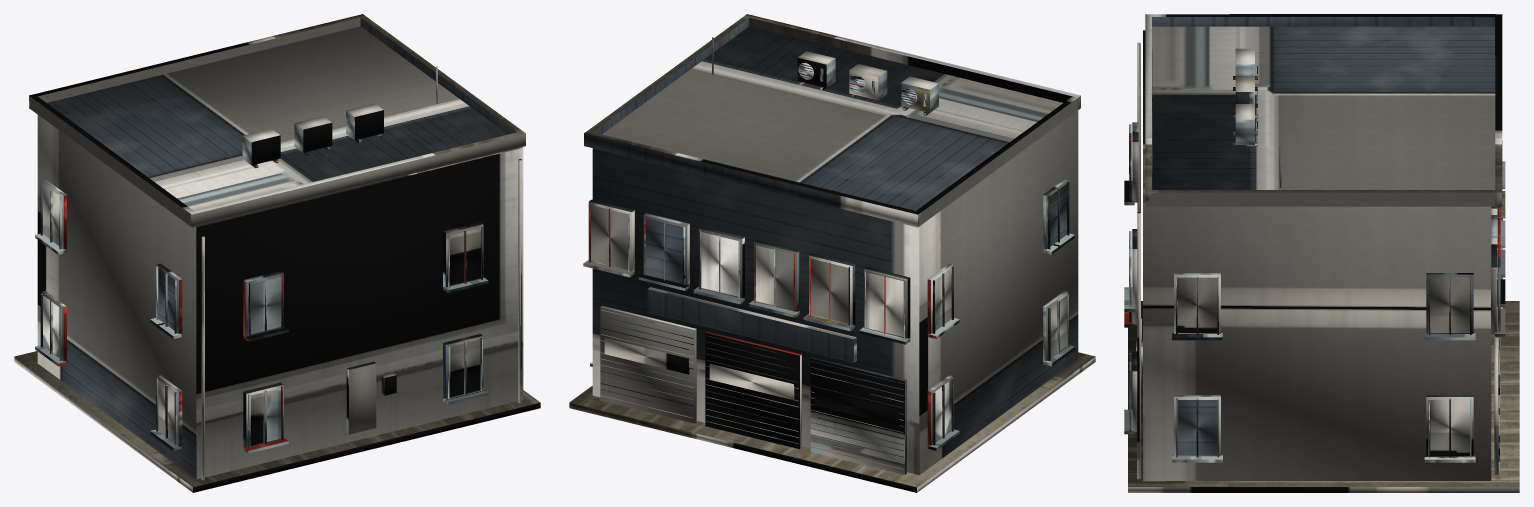
The model's file is public_007.lod1.obj.
3 views of the same model, side by side, from view 1: azimuth 30°, elevation 25°; view 2: azimuth 150°, elevation 25°; view 3: azimuth 270°, elevation 25° (orthographic). The views are drawn at different scales.
Visible parts, largest first — view 1: public_007; view 2: public_007; view 3: public_007.
Boxes of the visible parts, x1,y1,x2,y2 form: public_007: [14, 14, 540, 492]; public_007: [569, 14, 1095, 492]; public_007: [1124, 14, 1519, 492].
Bounding box in the file's own units: 10.1 × 8.3 × 9.08.
1 material, 1 textured.
